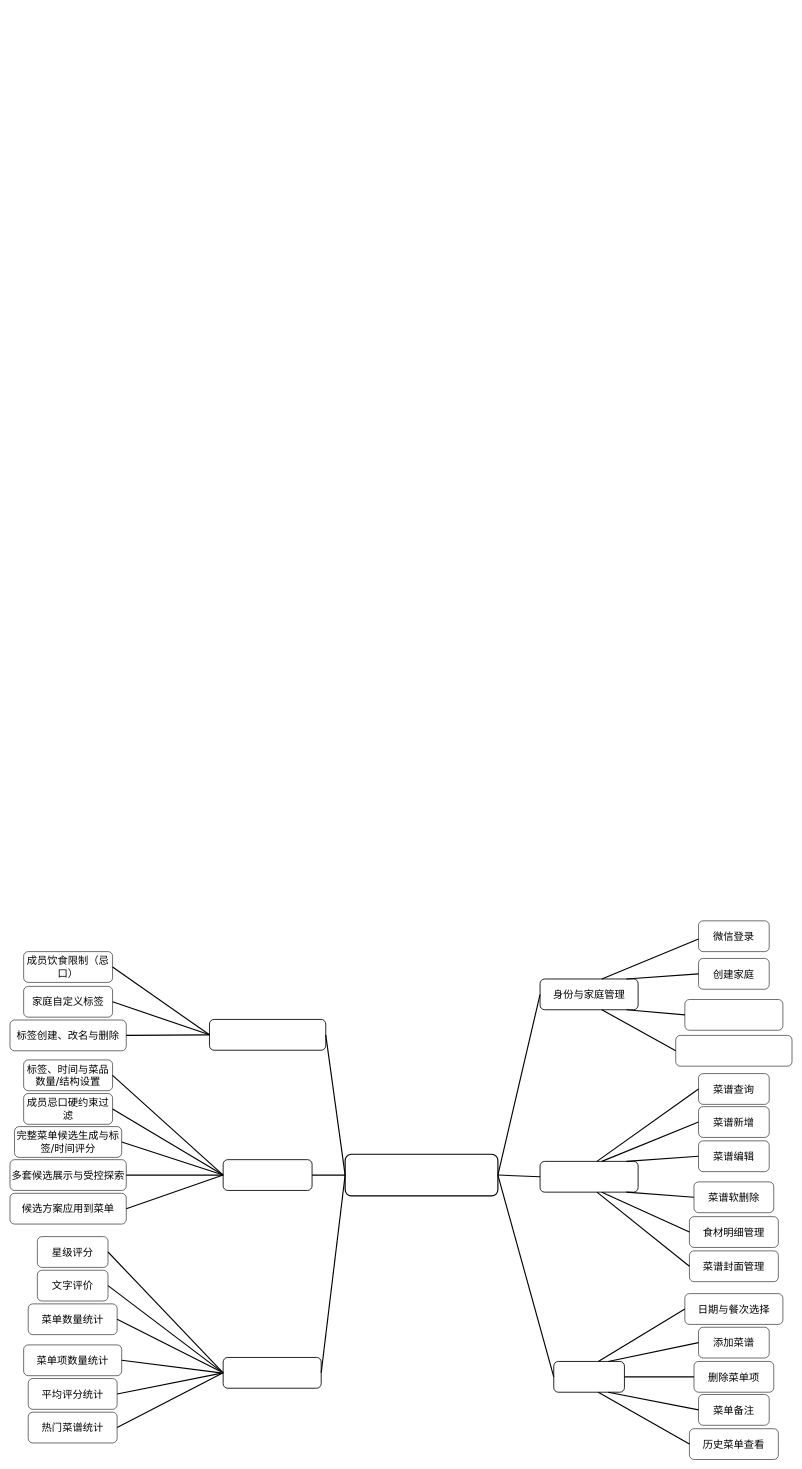
Image size: 802x1469. Some labels were removed from this diagram. Here are the shapes that lost their labels. From the top down, the centre of each, then its label:
point 267,1034: 饮食限制与标签管理
point 733,1014: 邀请码加入家庭
point 733,1050: 家庭信息与成员查看
point 267,1175: 菜谱推荐管理
point 421,1174: 基于微信小程序的 家庭膳食管理与菜谱推荐系统
point 588,1176: 菜谱与食材管理
point 271,1372: 用餐反馈与统计
point 589,1376: 菜单管理
